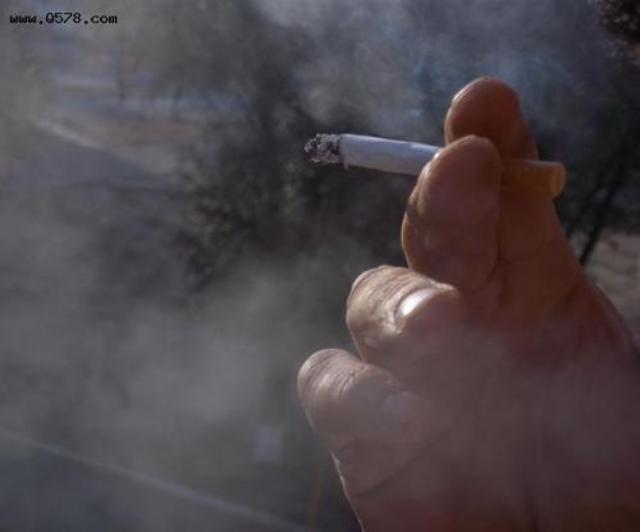Cigarette: (304, 131, 568, 199)
